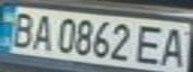0: (54, 15, 78, 55)
2: (109, 20, 136, 63)
6: (90, 18, 115, 60)
8: (72, 17, 96, 57)
A: (157, 25, 193, 69), (27, 11, 57, 52)
B: (3, 9, 39, 48)
E: (133, 21, 169, 66)
